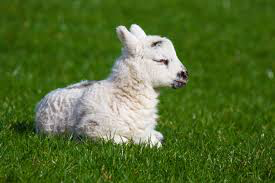koyun: (33, 23, 188, 149)
